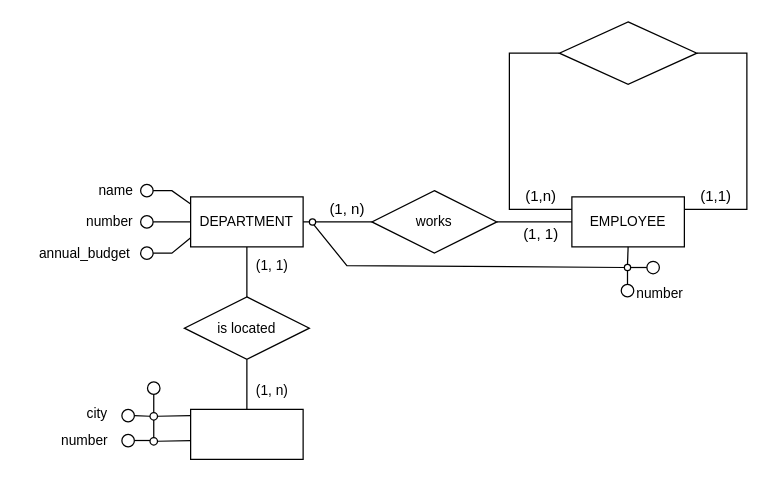
This 770x481 diagram has some shape labels left out. The shapes that lost their labels are listed below. From the top down, each one's centre as x and y in pixels, then its label:
At point (627, 52): "is in charge of".
At point (246, 433): "BUILDING".
